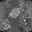people: (10, 8, 21, 20)
